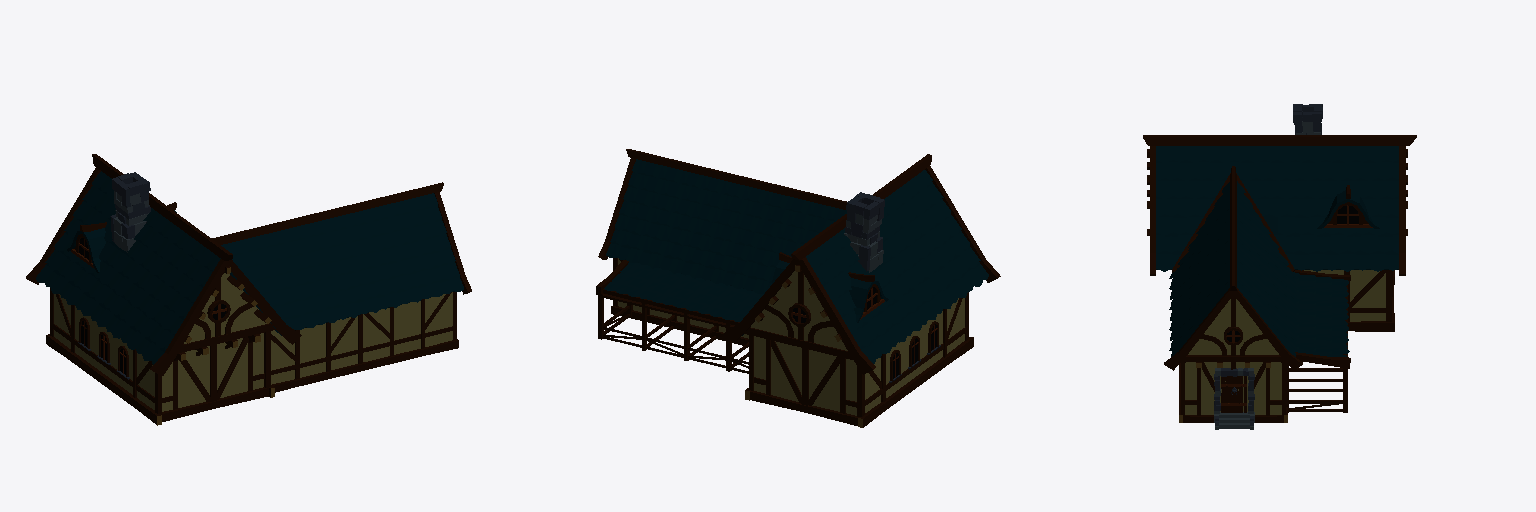
The model's file is Stable_Cube.obj.
3 views of the same model, side by side, from view 1: azimuth 30°, elevation 25°; view 2: azimuth 150°, elevation 25°; view 3: azimuth 270°, elevation 25° (orthographic).
Parts seen in each view (by area): view 1: Stable_Cube.195; view 2: Stable_Cube.195; view 3: Stable_Cube.195.
Part boxes in pixels (x1,y1,x2,y2): Stable_Cube.195: (26, 154, 471, 425); Stable_Cube.195: (596, 149, 1000, 427); Stable_Cube.195: (1143, 104, 1416, 429).
Bounding box in the file's own units: 4.7 × 2.49 × 3.33.